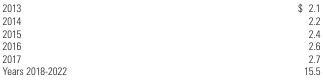table: (1, 1, 319, 77)
table column: (1, 1, 181, 77), (181, 1, 319, 77)
table row: (1, 13, 319, 26), (1, 26, 319, 39), (1, 51, 319, 64), (1, 64, 319, 77), (1, 1, 319, 13), (1, 39, 319, 51)
